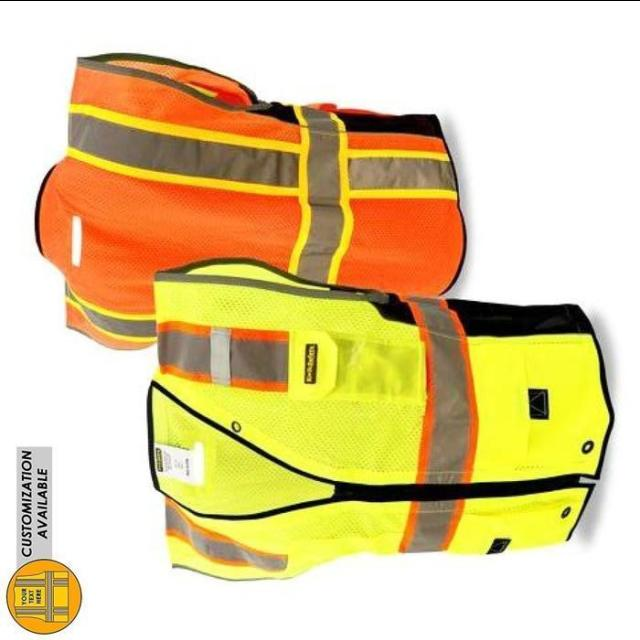jacket: (138, 248, 606, 602)
